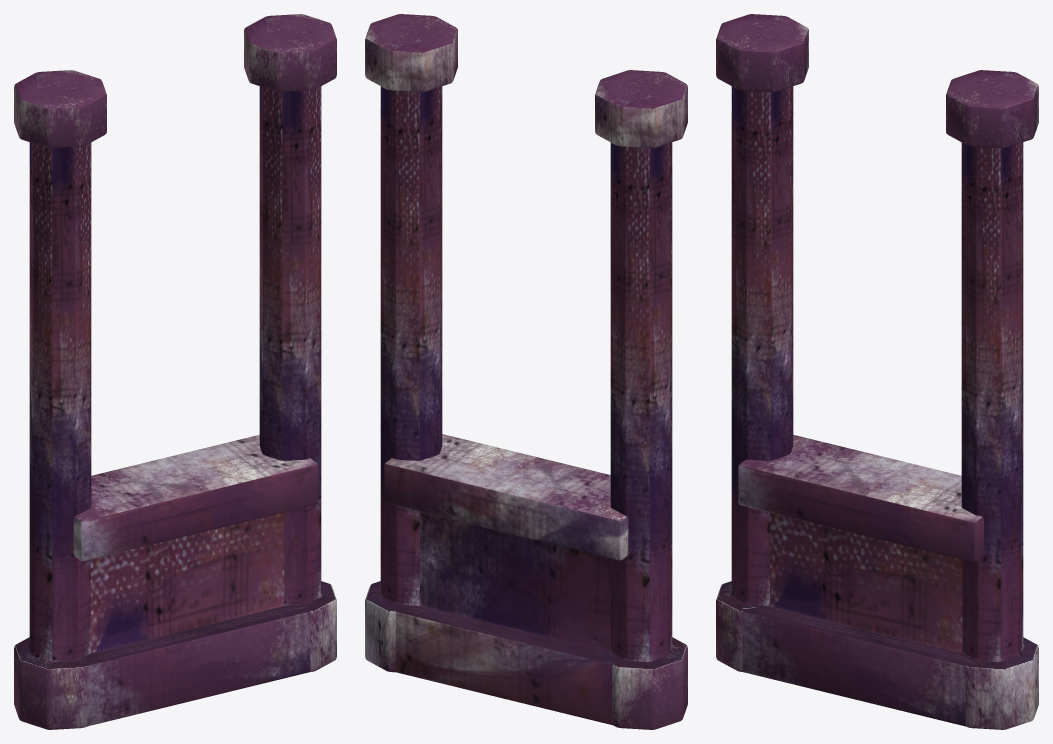
The model's file is MANOR_WALL_1_1_001.obj.
3 renders of one model, left to right at view 1: azimuth 30°, elevation 25°; view 2: azimuth 150°, elevation 25°; view 3: azimuth 330°, elevation 25°, orthographic.
Parts seen in each view (by area): view 1: MANOR_WALL_1_1_001; view 2: MANOR_WALL_1_1_001; view 3: MANOR_WALL_1_1_001.
Part boxes in pixels (x1,y1,x2,y2): MANOR_WALL_1_1_001: [14, 14, 336, 729]; MANOR_WALL_1_1_001: [365, 14, 687, 729]; MANOR_WALL_1_1_001: [716, 14, 1038, 729].
Size of the model in its own units: 1.57 by 3 by 0.4135.
